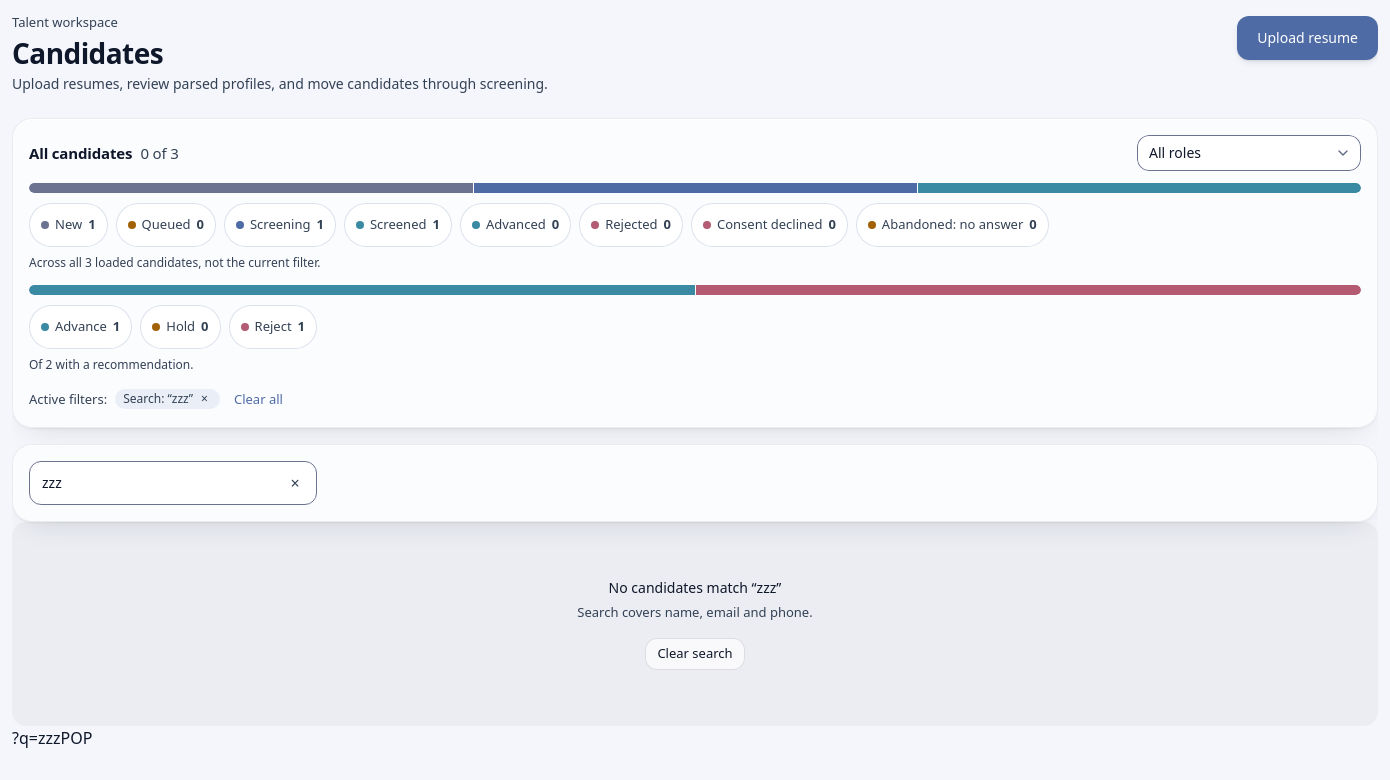
it: CandidatesPage search › says what was searched when the search alone matches nothing, and "Clear search" restores
Check: the text "No candidates match “zzz”" is shown, box [609,578,781,598]
Check: the text "Search covers name, email and phone." is shown, box [577,602,813,622]
Click the button "Clear search" at (695, 654), box [645,638,745,670]
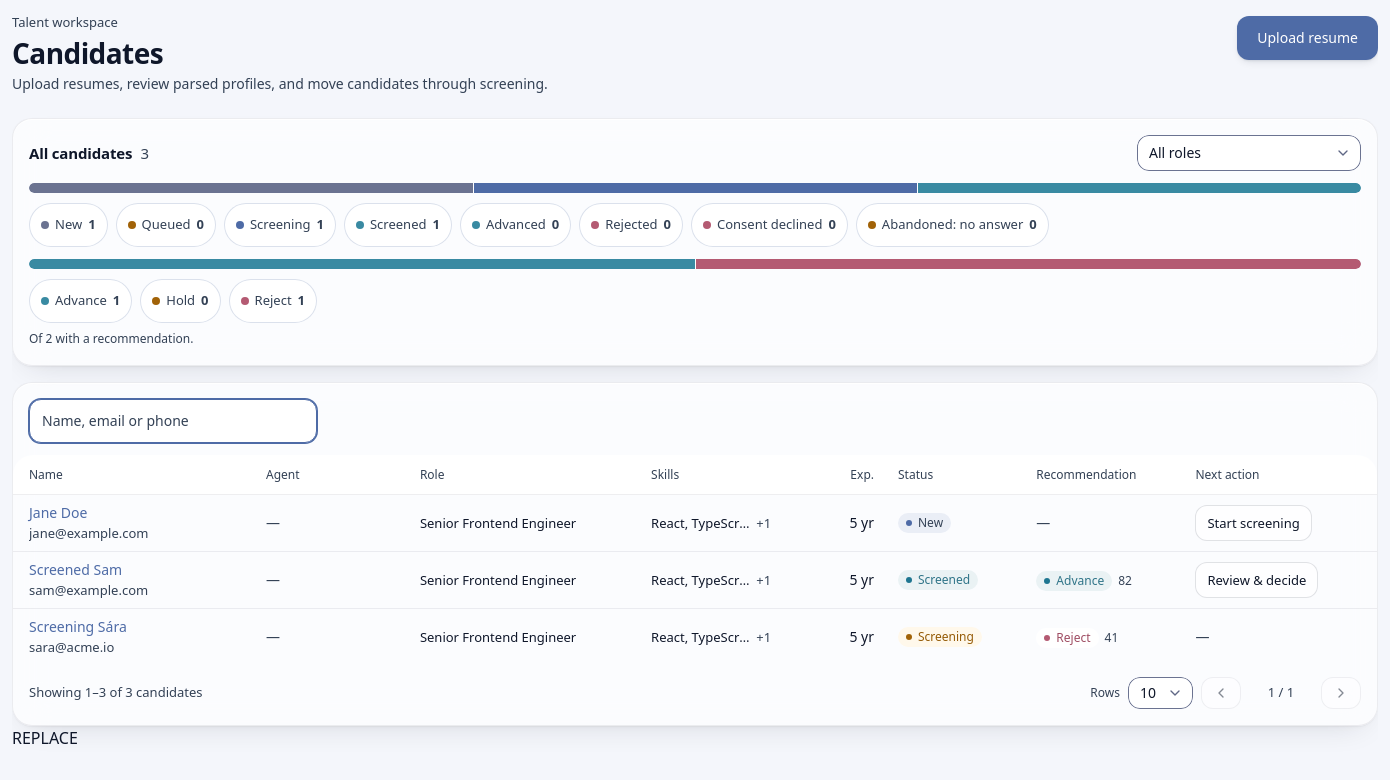
Check: the search field named "Search candidates" is empty, box [29,399,317,443]
